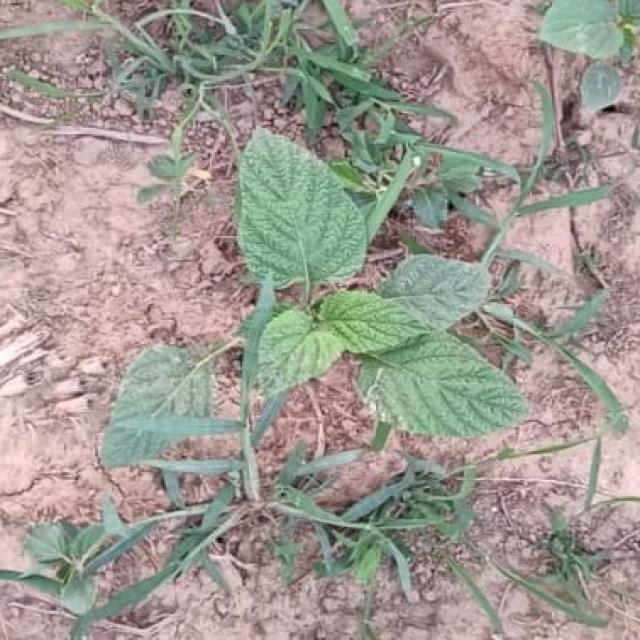weed: (252, 257, 527, 437), (239, 133, 367, 287), (103, 346, 240, 466), (542, 0, 638, 107), (25, 524, 115, 608)
